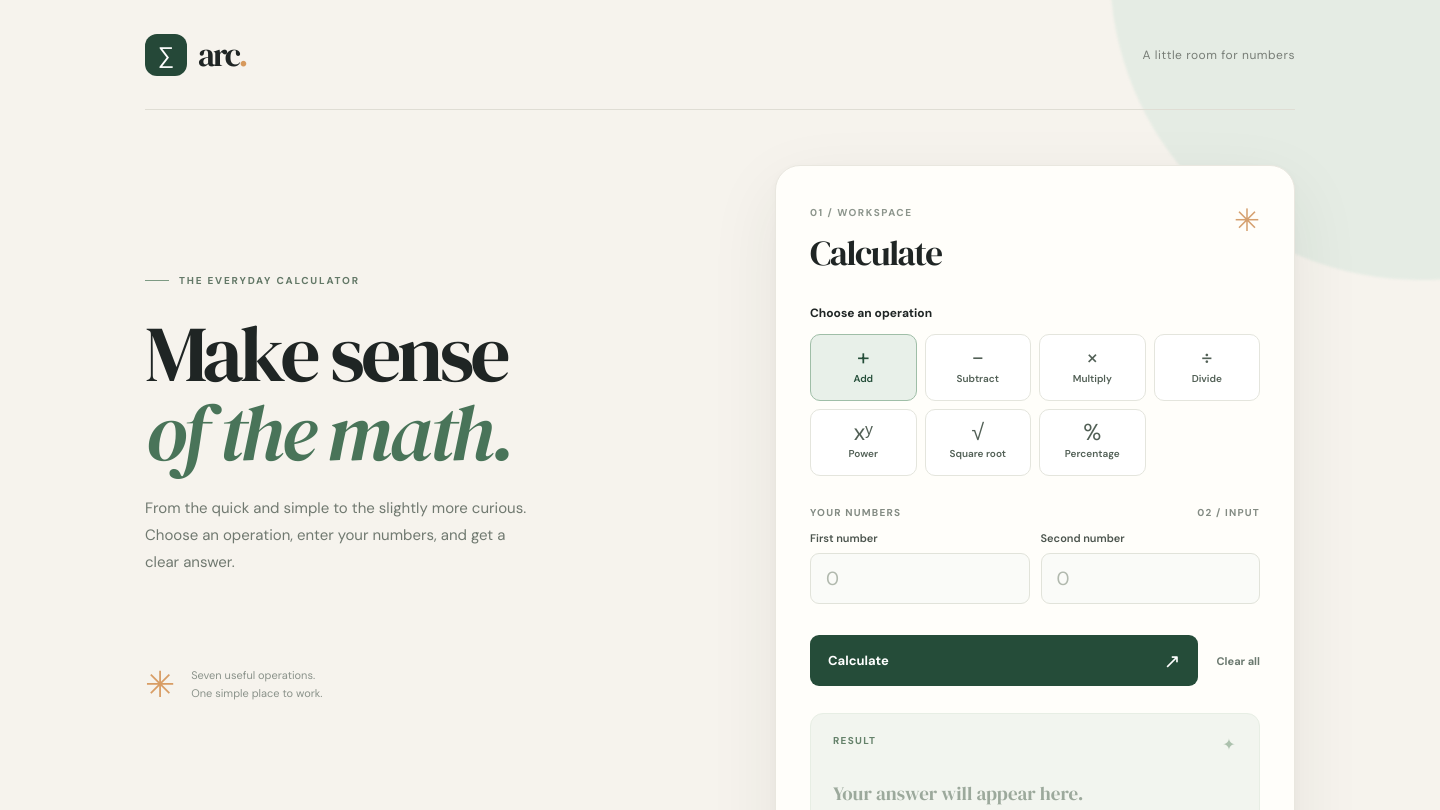
it: calculator UI › shows a useful message when the service cannot be reached
Type "5" into the number field labelled "First number" at (920, 578), box [810, 553, 1030, 604]
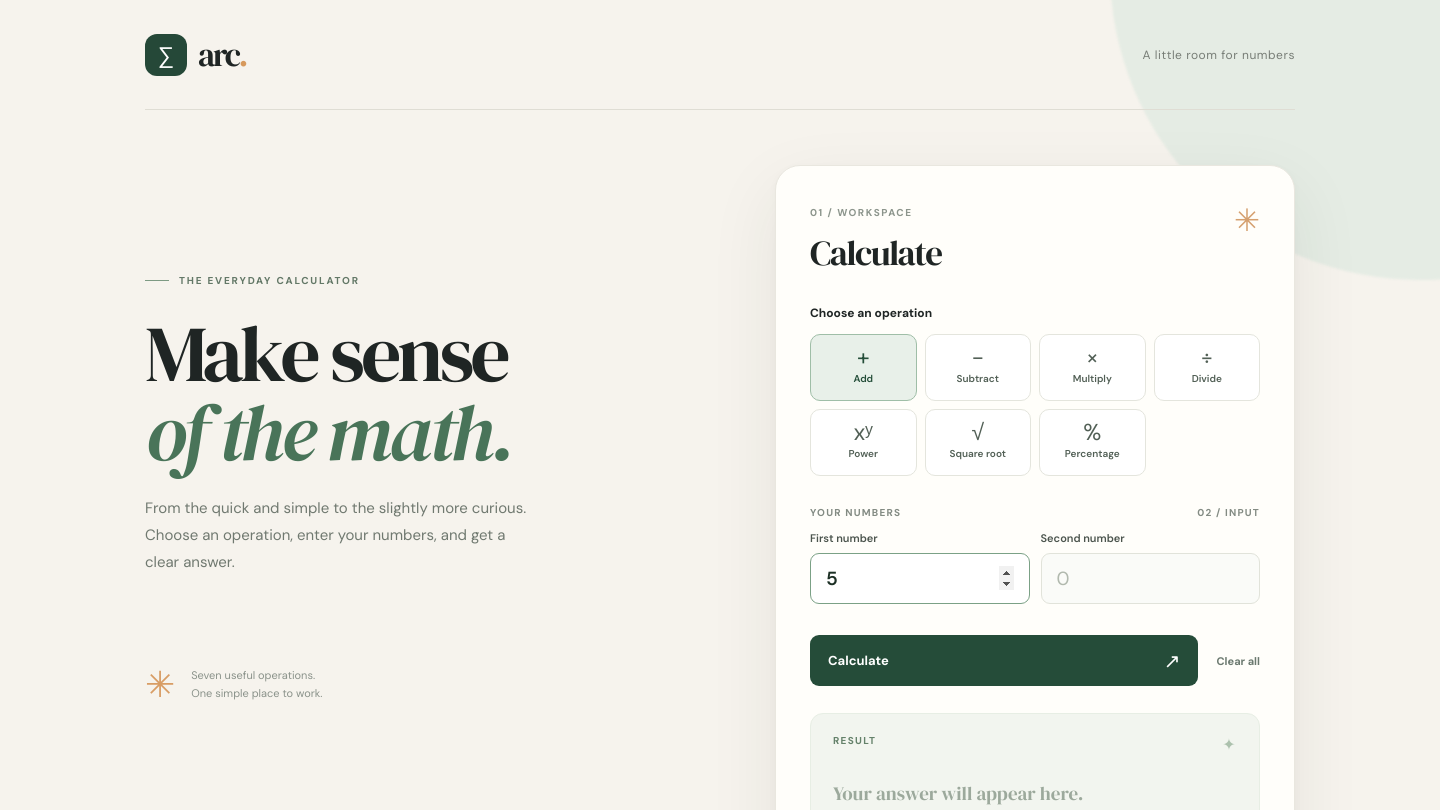
Type "2" into the number field labelled "Second number" at (1150, 578), box [1040, 553, 1260, 604]
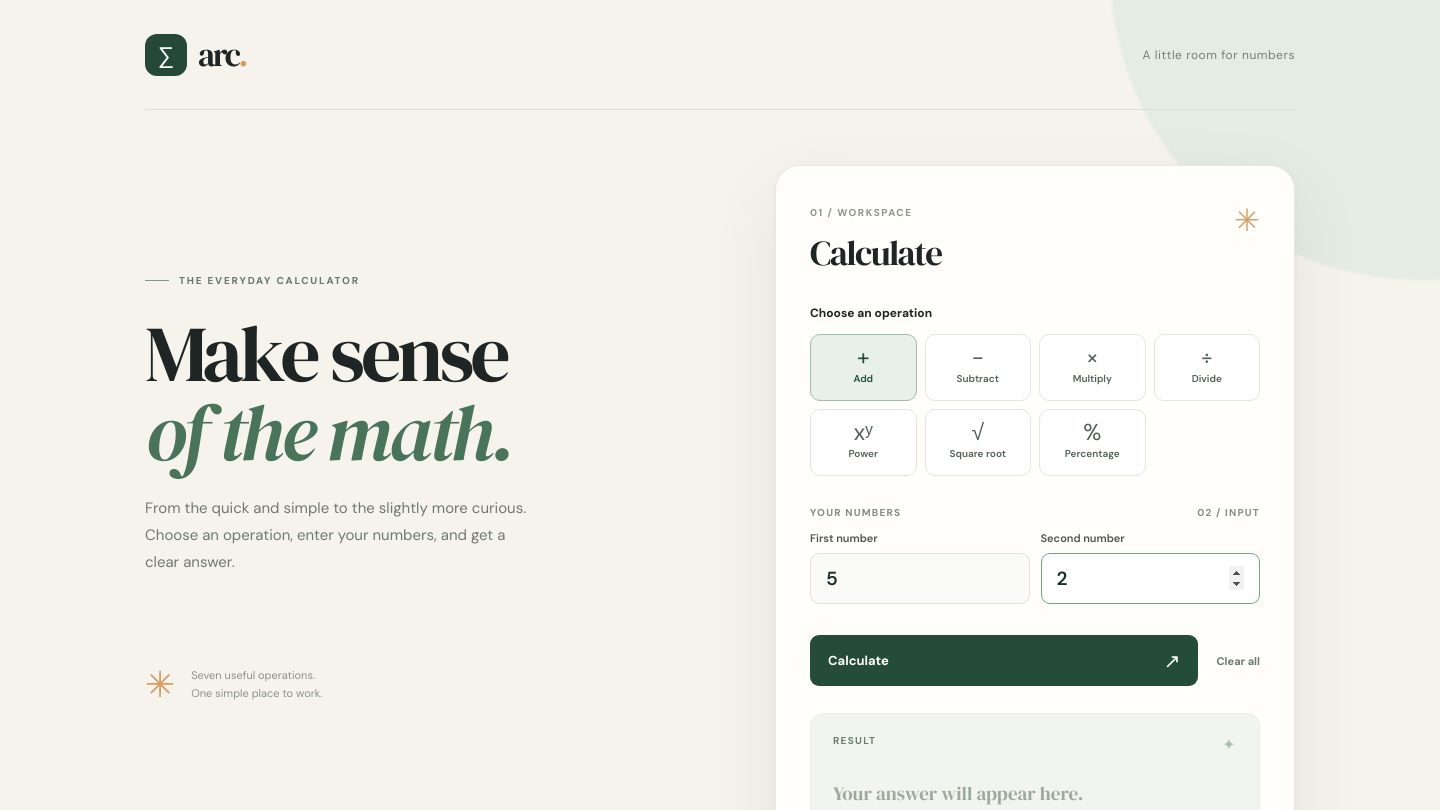
Click the button "Calculate ↗" at (858, 660), box [810, 635, 1198, 686]
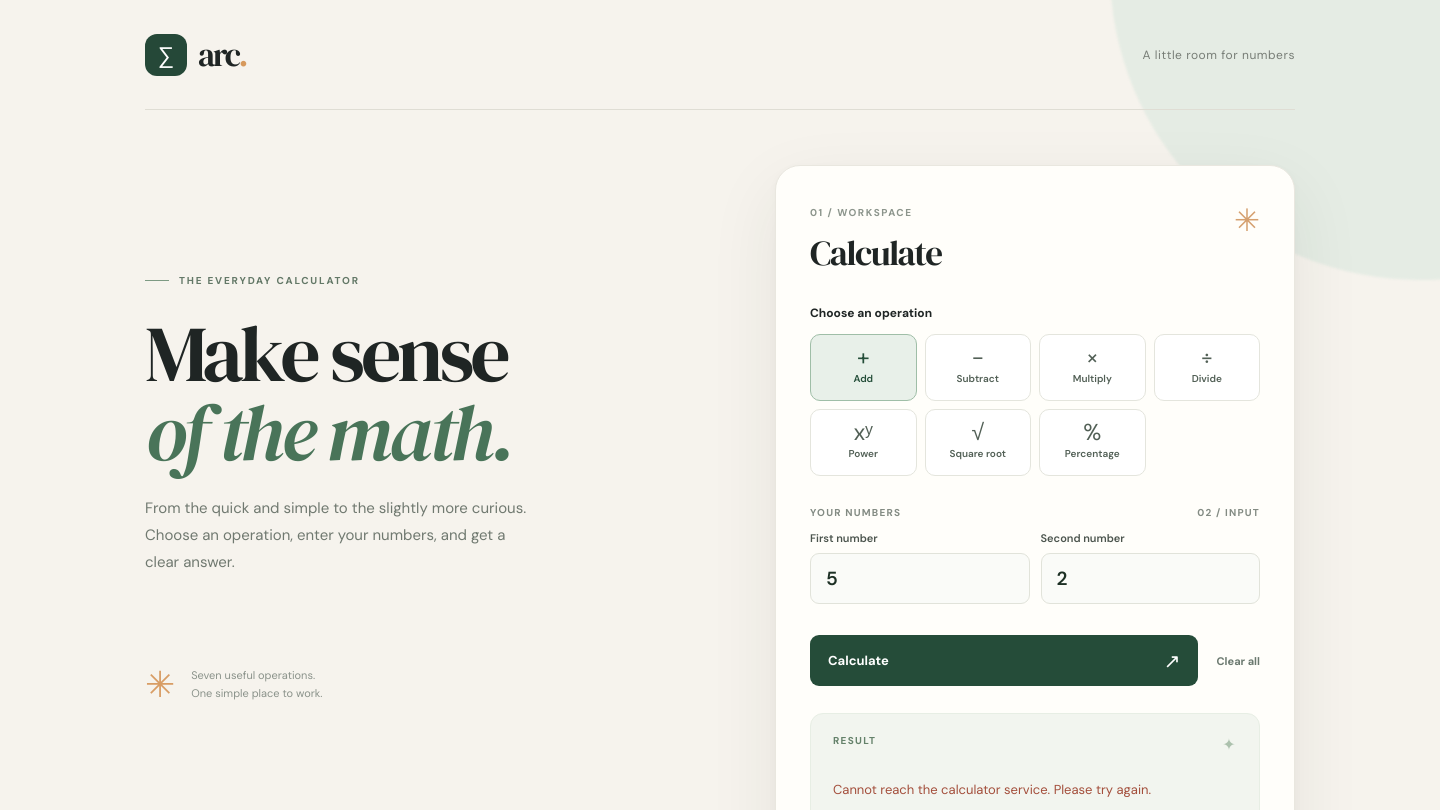
Now the message shows "Cannot reach the calculator service", box [833, 781, 1151, 798]
